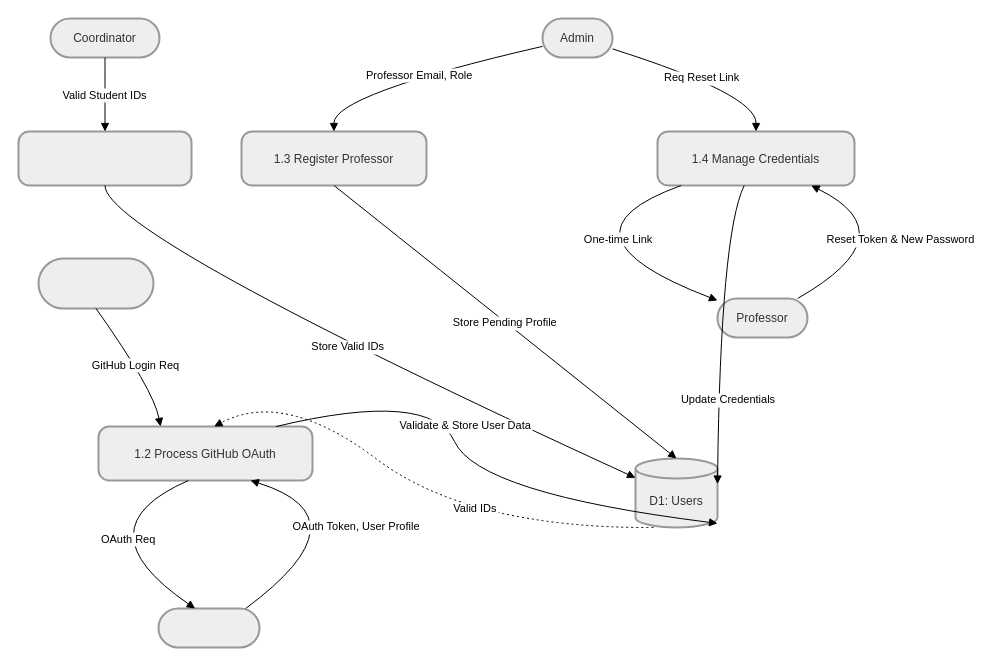
Image size: 992x665. Some labels were removed from this diagram. Here are the shapes that lost their labels. From the top down, the centre of each, then its label:
(104,158): 1.1 Upload Valid IDs
(95,283): Student/ Team Leader
(208,627): GitHub API
